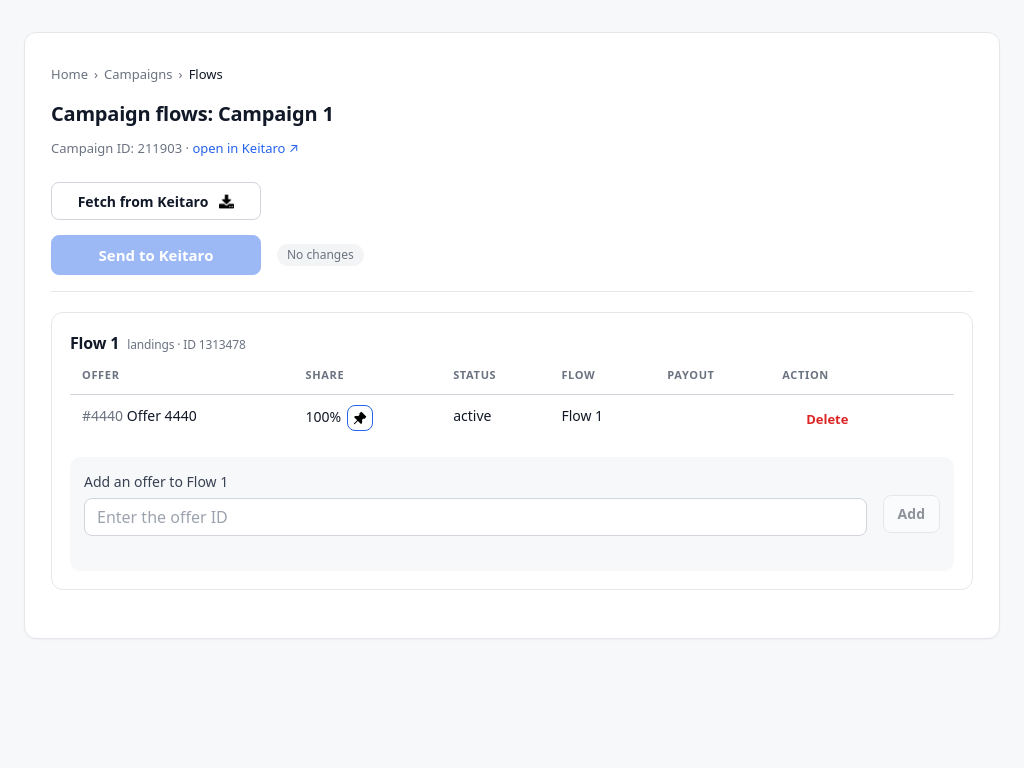
Test: StreamsContent — weight pins › "Fetch from Keitaro" does not reset pins
The width and height of the screenshot is (1024, 768).
Expected: the text "#4440" is shown, [82,406,123,424]
Click the button "Fetch from Keitaro".
click(156, 201)  # box [51,182,261,220]
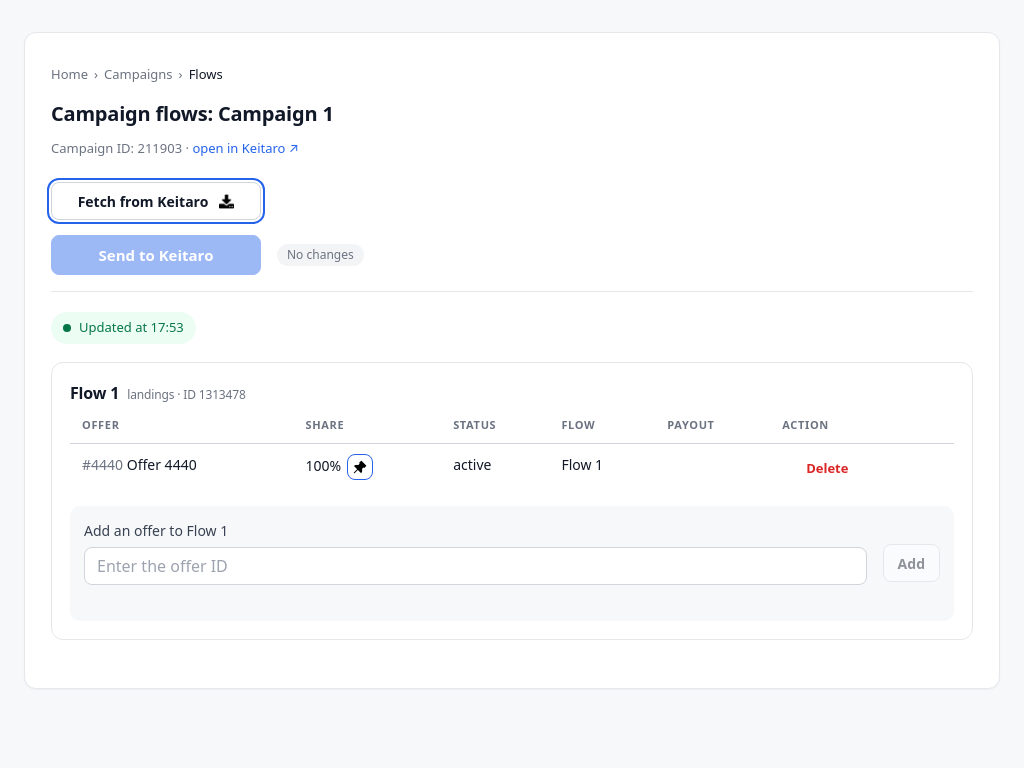
Expected: the text "Updated at 17:53" is shown, [51,312,196,344]
